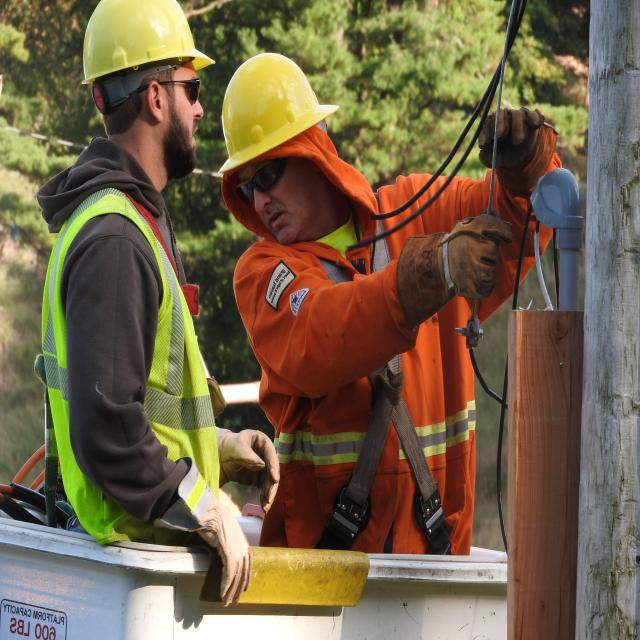Reflective-Jacket: (255, 165, 546, 552), (38, 178, 220, 538)
Safety-Helmet: (215, 49, 338, 177), (78, 0, 214, 92)
